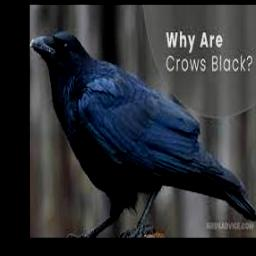Crow: (30, 32, 256, 236)
